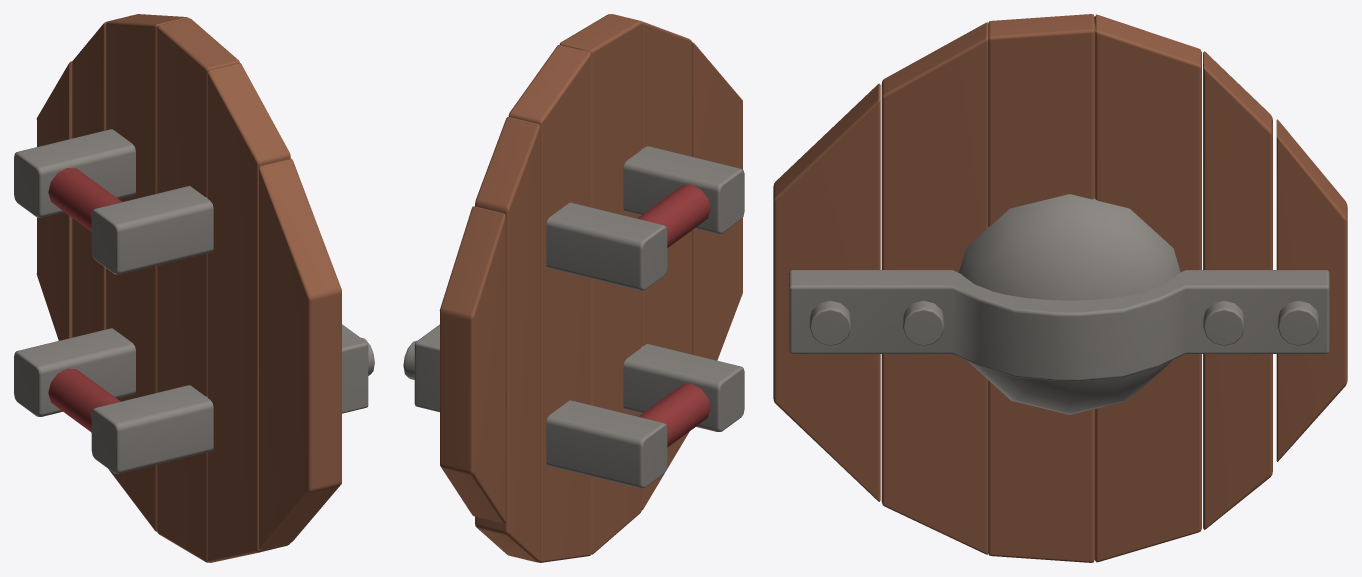
File: Shield01.fbx
3 views of the same model, side by side, from view 1: azimuth 30°, elevation 25°; view 2: azimuth 150°, elevation 25°; view 3: azimuth 270°, elevation 25° (orthographic). The views are drawn at different scales.
Visible parts, largest first — view 1: Shield02; view 2: Shield02; view 3: Shield02.
Part boxes in pixels (x1,y1,x2,y2): Shield02: (14,14,374,562); Shield02: (403,14,744,562); Shield02: (773,14,1347,562).
Size of the model in its own units: 14.94 by 33.39 by 32.54.
